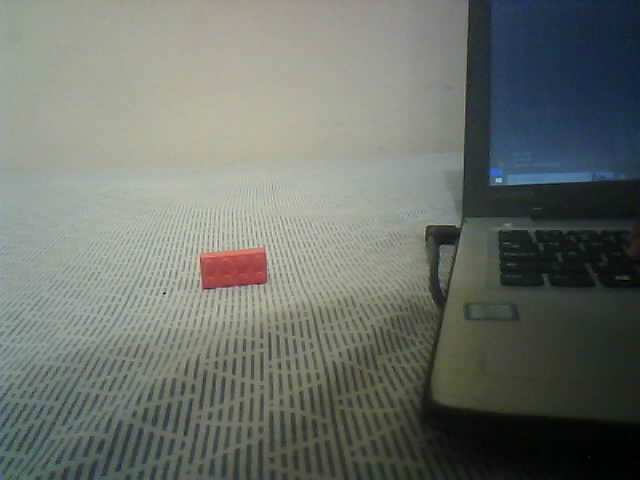lego: (199, 246, 268, 289)
